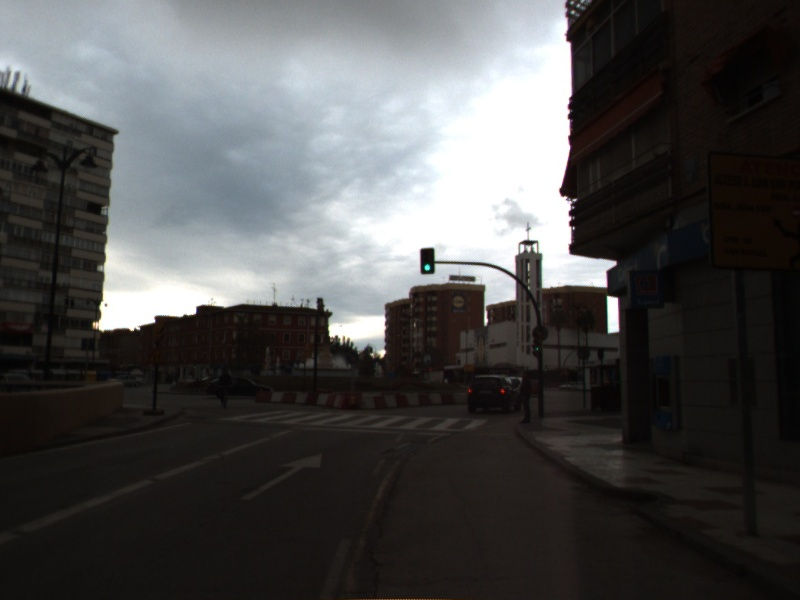STRAIGHT: (237, 451, 325, 502)
